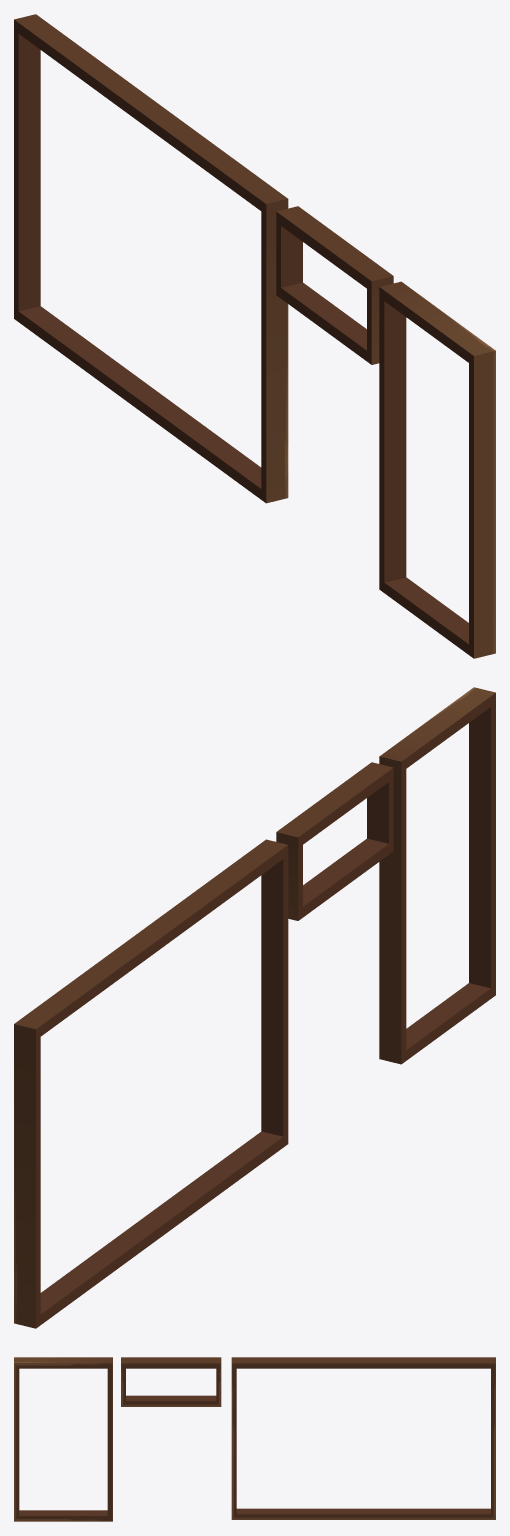
File: window_frames.fbx
The picture shows the model from 3 angles, top to bottom: view 1: azimuth 30°, elevation 25°; view 2: azimuth 150°, elevation 25°; view 3: azimuth 270°, elevation 25°; orthographic projection. The views are drawn at different scales.
Visible parts, largest first — view 1: pCube21; view 2: pCube21; view 3: pCube21.
Boxes of the visible parts, bbox=[...] form: pCube21: bbox=[14, 14, 495, 658]; pCube21: bbox=[14, 687, 495, 1328]; pCube21: bbox=[14, 1357, 495, 1521].
Bounding box in the file's own units: 19.77 × 260 × 716.
